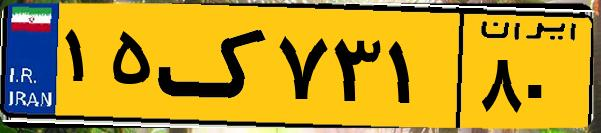0: (525, 38, 570, 115)
1: (385, 28, 445, 110), (57, 26, 110, 100)
3: (330, 28, 385, 110)
5: (110, 28, 158, 98)
7: (270, 28, 330, 110)
8: (475, 38, 525, 113)
ک: (158, 12, 270, 120)
